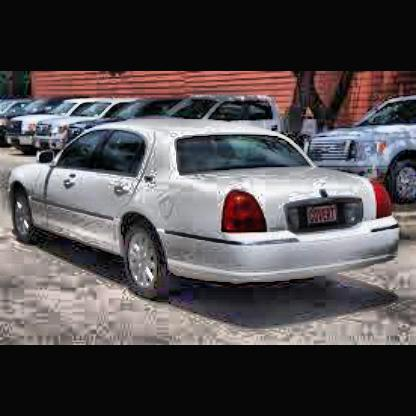Lincoln Town Car Sedan 2011: (2, 113, 410, 307)
